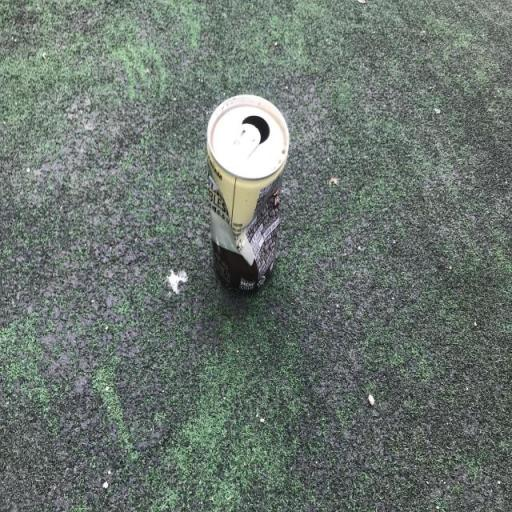metal: (181, 66, 291, 309)
